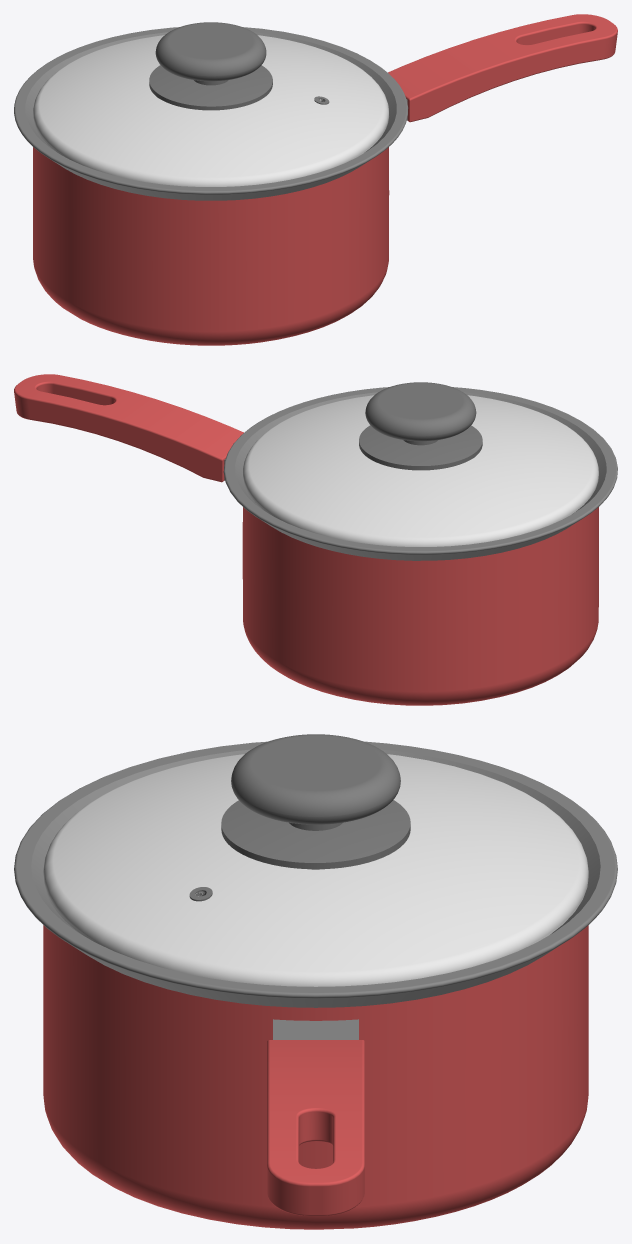
File: 011_片手鍋.glb
3 renders of one model, top to bottom at view 1: azimuth 30°, elevation 25°; view 2: azimuth 150°, elevation 25°; view 3: azimuth 270°, elevation 25°, orthographic. The views are drawn at different scales.
Parts seen in each view (by area): view 1: 鍋, 蓋, 取手; view 2: 鍋, 蓋, 取手; view 3: 鍋, 蓋, 取手.
Part boxes in pixels (left/top/right/bottom): 鍋: left=14, top=27, right=408, bottom=345; 蓋: left=33, top=22, right=388, bottom=186; 取手: left=388, top=14, right=617, bottom=122; 鍋: left=223, top=387, right=617, bottom=705; 蓋: left=242, top=382, right=598, bottom=546; 取手: left=14, top=374, right=243, bottom=482; 鍋: left=14, top=741, right=617, bottom=1229; 蓋: left=43, top=734, right=588, bottom=986; 取手: left=267, top=1019, right=364, bottom=1215.
Size of the model in its own units: 0.3523 by 0.1396 by 0.2103.
